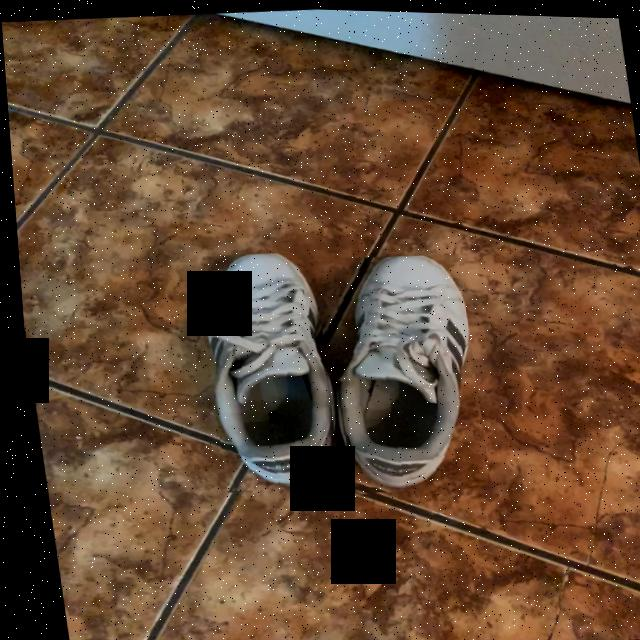shoe: (334, 253, 466, 490), (199, 251, 326, 486)
